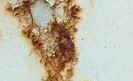Corrosion: (2, 1, 84, 81)
